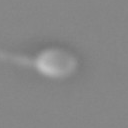normal: (1, 40, 36, 72)
